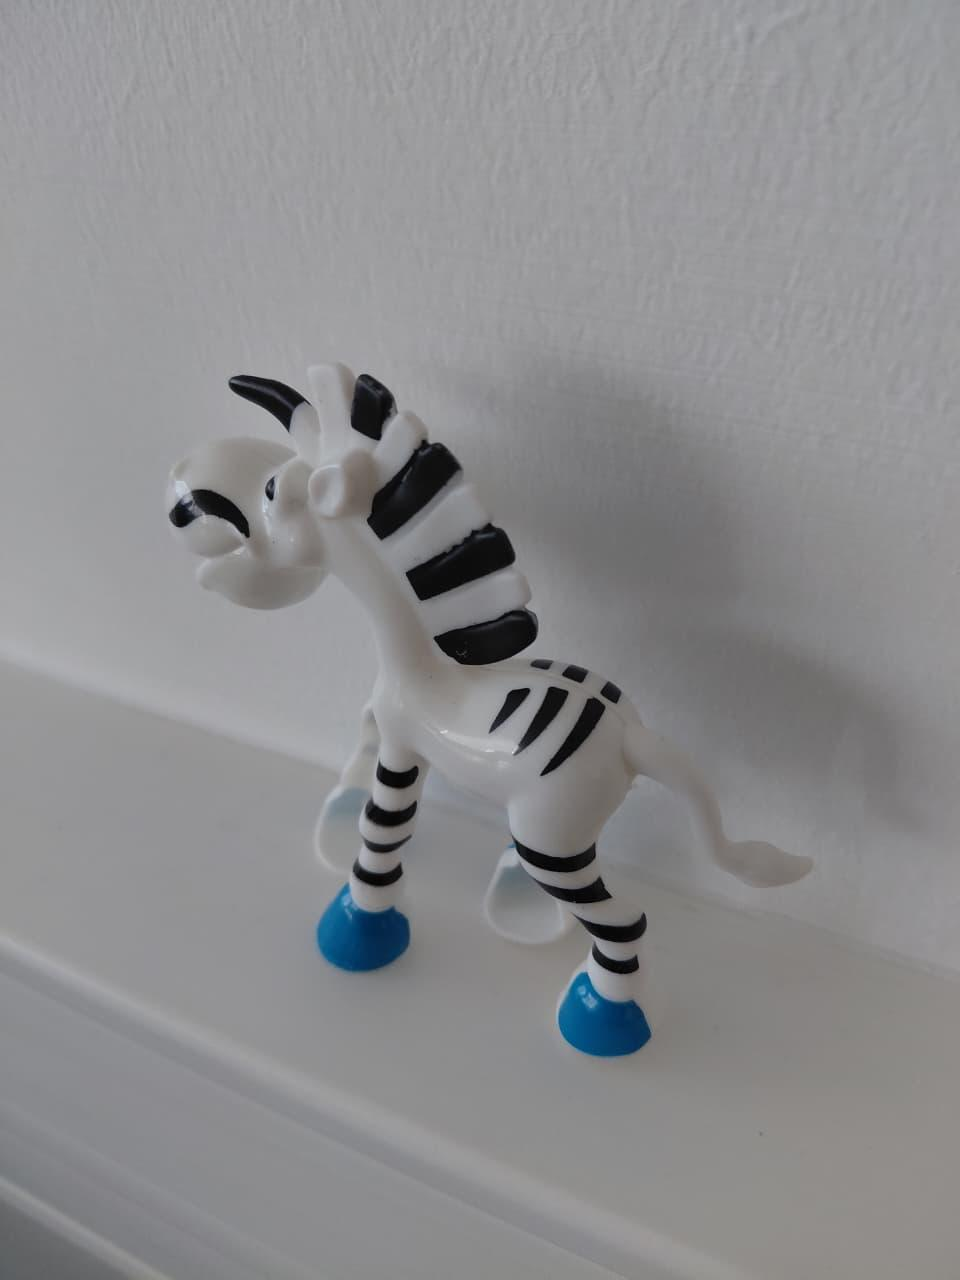zebra: (110, 303, 840, 1070)
